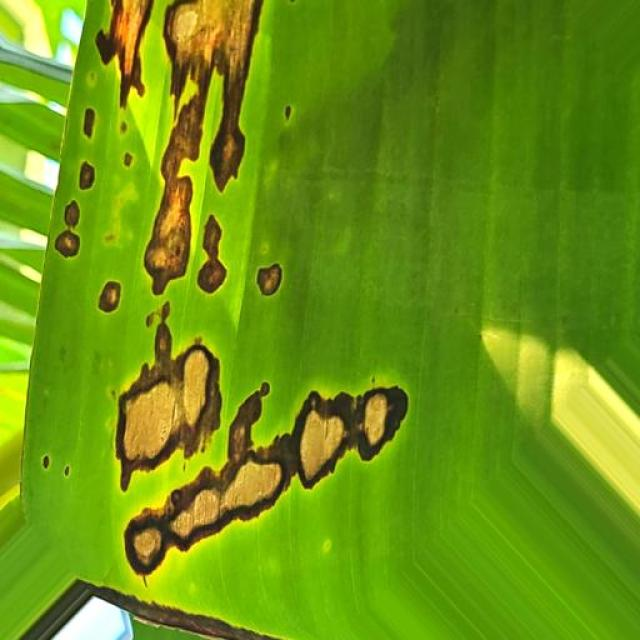Early_rust: (1, 0, 414, 575)
